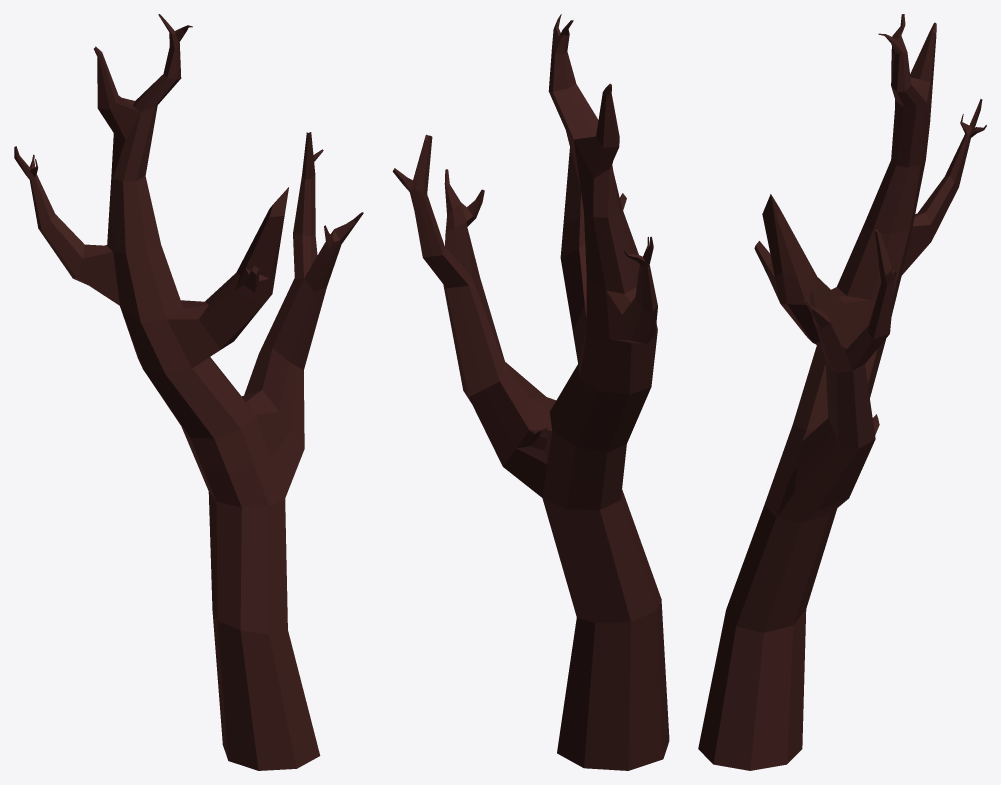
File: BareTree.fbx
The picture shows the model from 3 angles, left to right: view 1: azimuth 30°, elevation 25°; view 2: azimuth 150°, elevation 25°; view 3: azimuth 270°, elevation 25°; orthographic projection. The views are drawn at different scales.
Parts seen in each view (by area): view 1: BareTree; view 2: BareTree; view 3: BareTree.
Part boxes in pixels (x1=…): BareTree: x1=14, y1=14, x2=363, y2=770; BareTree: x1=392, y1=14, x2=669, y2=770; BareTree: x1=698, y1=14, x2=986, y2=770.
Bounding box in the file's own units: 1582 × 3914 × 1432.
